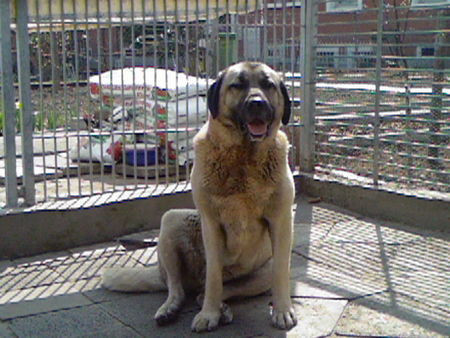kangal: (101, 60, 298, 333)
